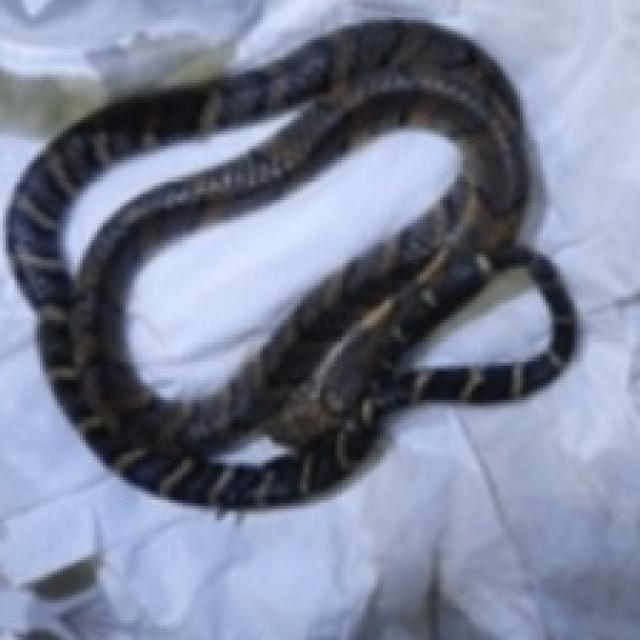king cobra: (6, 20, 574, 506)
